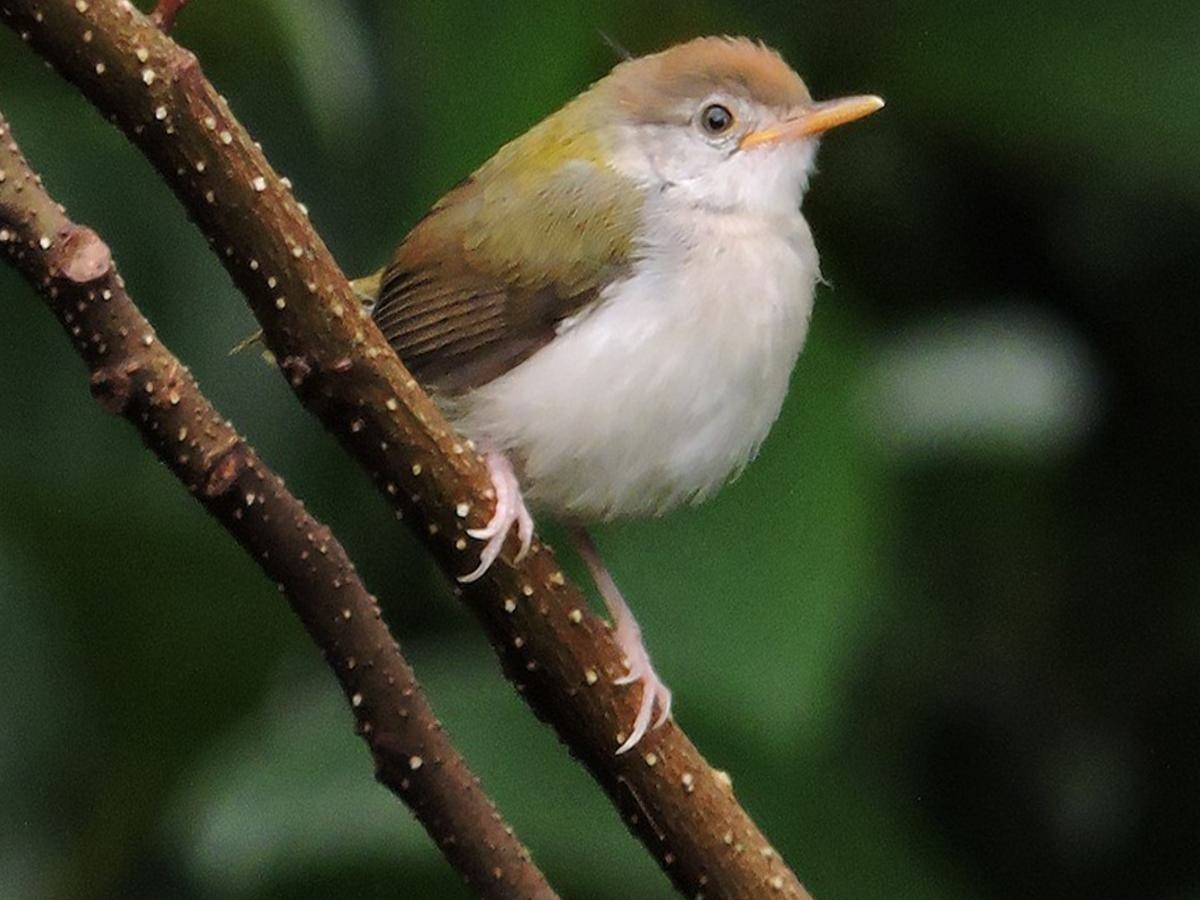tailorbird: (295, 13, 910, 684)
